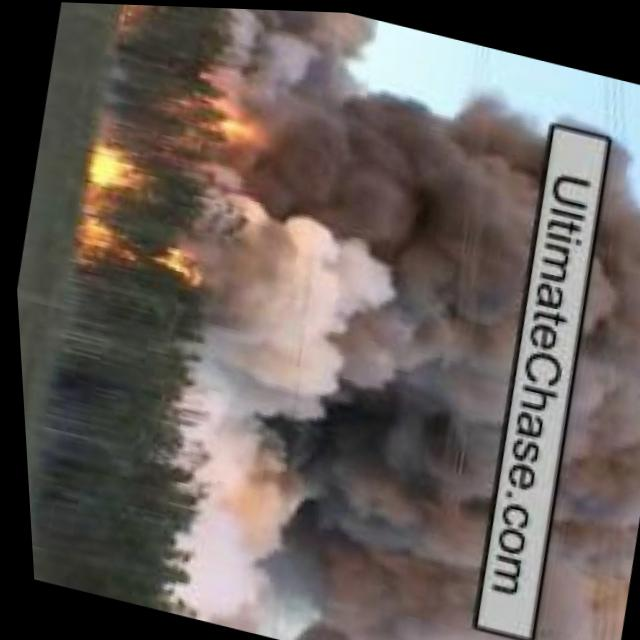Fire: (67, 138, 203, 282), (207, 107, 268, 151), (117, 3, 161, 21)
